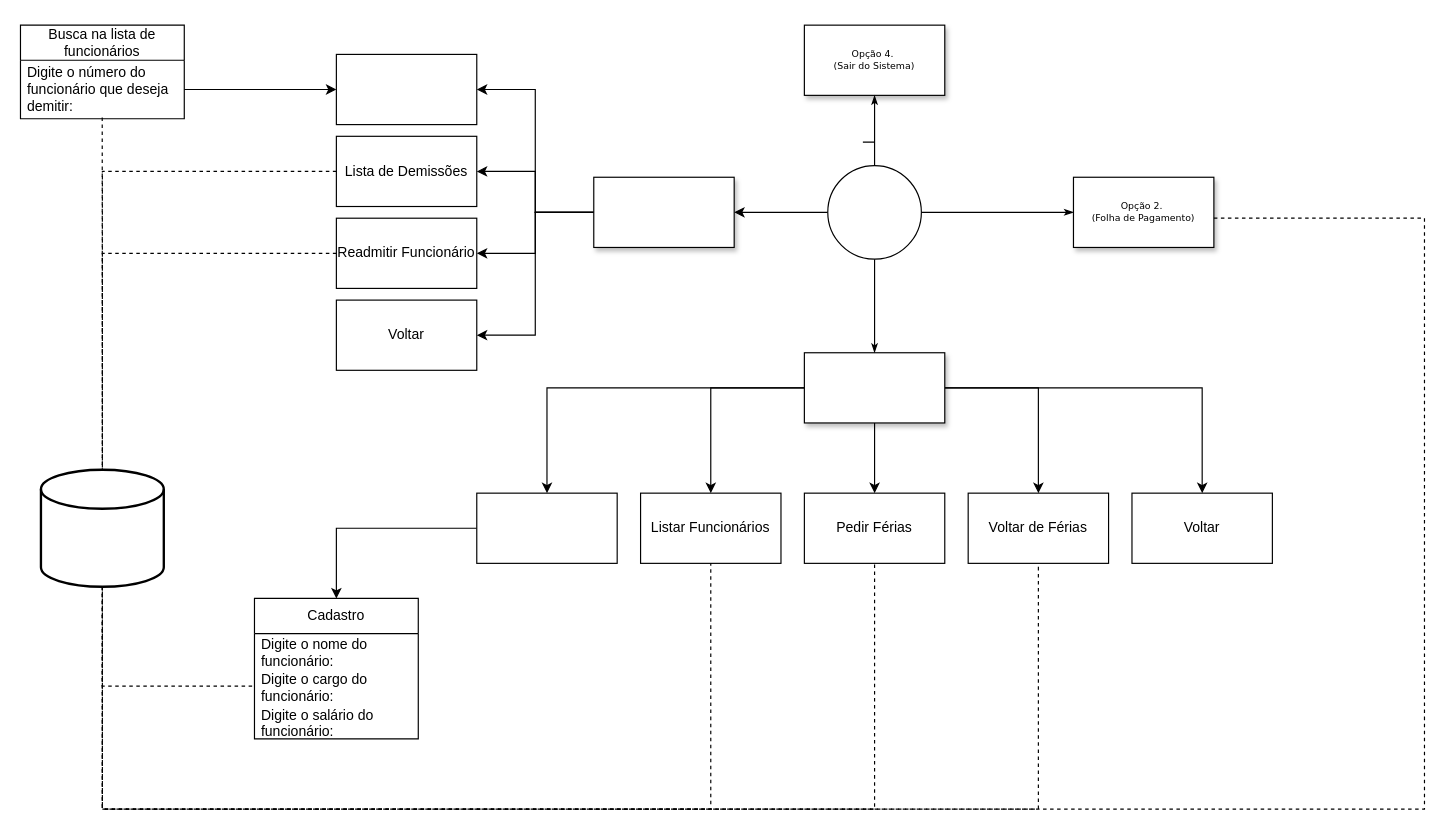
Image size: 1446x831. Some labels were removed from this diagram. Each missing label, with the centre of its shape:
Admitir Funcionarios: the point at 546,527
Demitir: the point at 406,89
funcionários,t xt: the point at 101,527
Opção 1. (Funcionários): the point at 875,389
Opção 3 . (Demissões): the point at 664,213
Start: the point at 874,211
